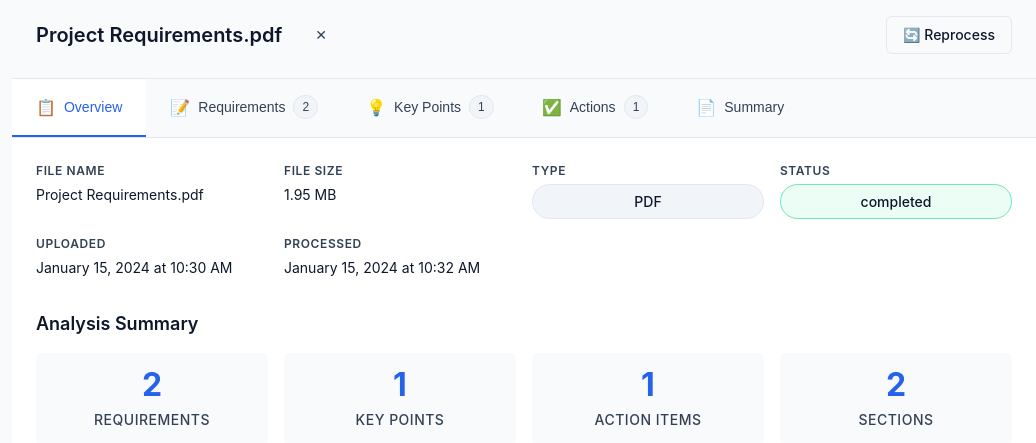
Test: DocumentViewer › displays action items correctly
Note: Switch to actions tab
Click the text "Actions". click: (593, 107)
box: [570,99,616,115]
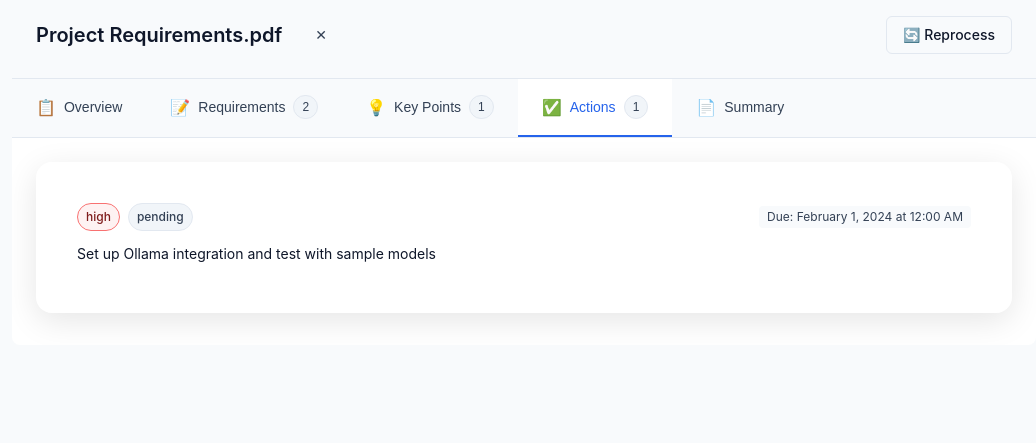
expect the text "Set up Ollama integration and test with sample models" is shown: met, box [77,245,436,262]
expect the text "pending" is shown: met, box [128,203,193,231]
expect the text "Due: February 1, 2024 at 12:00 AM" is shown: met, box [759,206,971,228]
